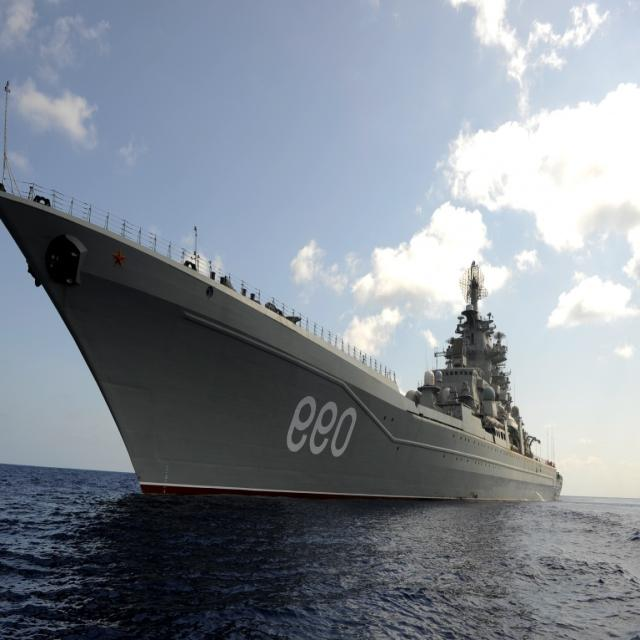navalvessels: (0, 179, 569, 534)
